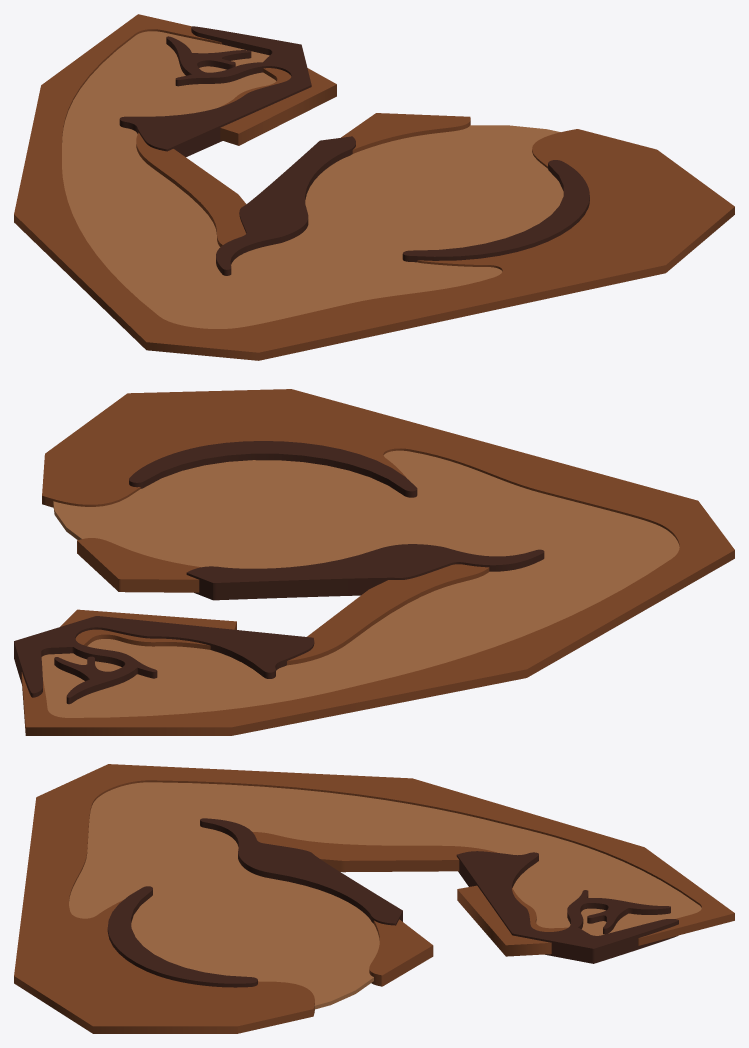
File: emoji_u1f4aa_1f3fe.glb
3 views of the same model, one above another, from view 1: azimuth 30°, elevation 25°; view 2: azimuth 150°, elevation 25°; view 3: azimuth 270°, elevation 25° (orthographic). The views are drawn at different scales.
Parts seen in each view (by area): view 1: emoji_u1f4aa_1f3fe; view 2: emoji_u1f4aa_1f3fe; view 3: emoji_u1f4aa_1f3fe.
Part boxes in pixels (bbox=[...]): emoji_u1f4aa_1f3fe: bbox=[14, 14, 734, 360]; emoji_u1f4aa_1f3fe: bbox=[14, 389, 734, 735]; emoji_u1f4aa_1f3fe: bbox=[14, 764, 734, 1033].
Bounding box in the file's own units: 0.0299 × 0.0008 × 0.0347.
